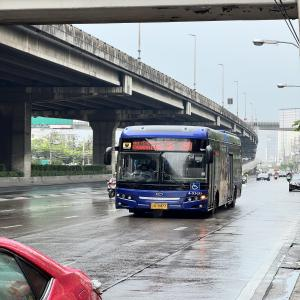Bus Line Number: (177, 139, 195, 153)
Bus Side Number: (186, 191, 202, 195)
Destination Sign: (130, 140, 175, 152)
TSB-Bus: (112, 125, 243, 216)
